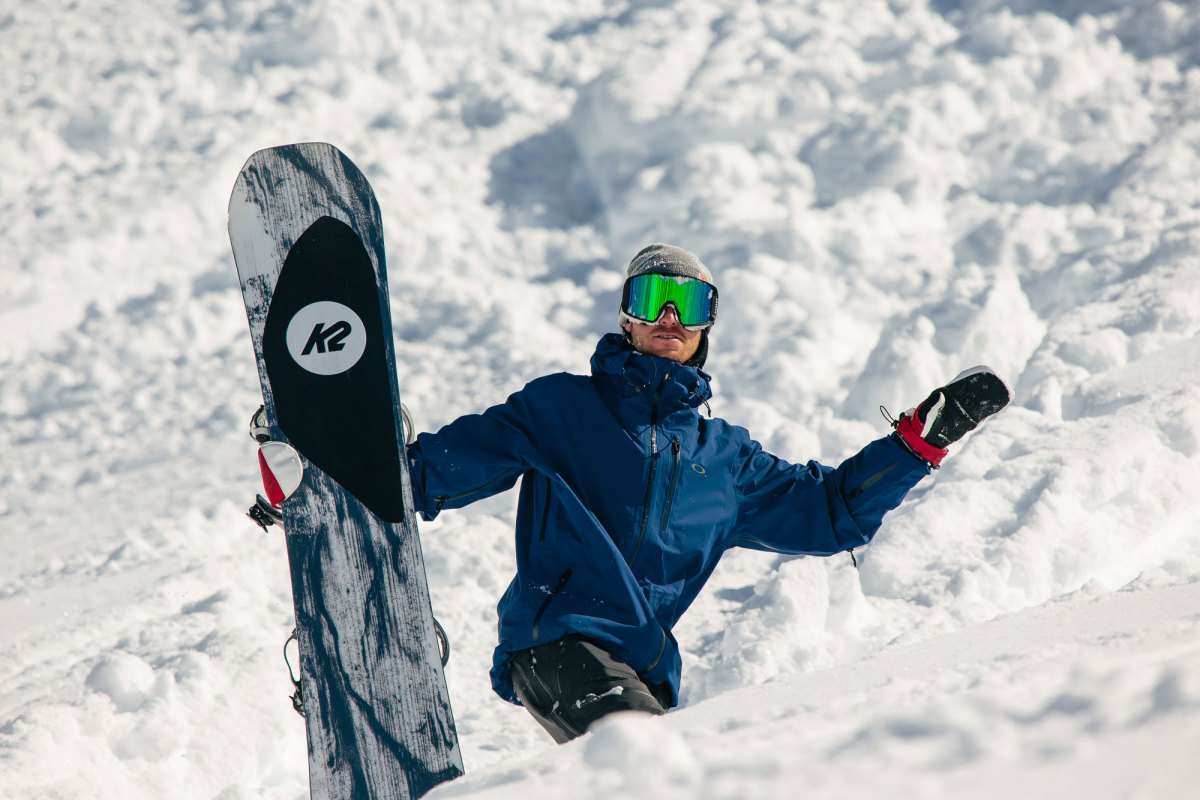snowboarder: (215, 146, 1020, 800)
